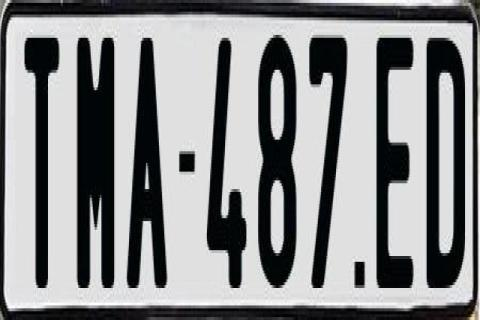0: (206, 38, 252, 291), (307, 32, 351, 296), (258, 35, 298, 305)
A: (124, 38, 166, 300)
D: (424, 35, 459, 294)
E: (374, 29, 410, 279)
M: (75, 32, 113, 285)
T: (23, 29, 59, 294)
